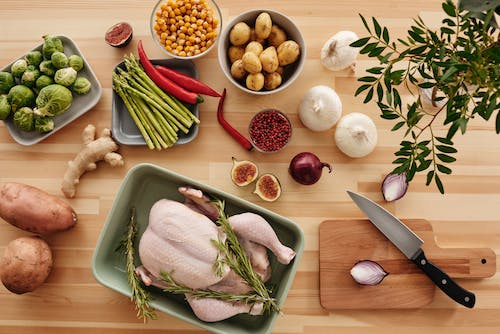knife: (345, 187, 477, 310)
